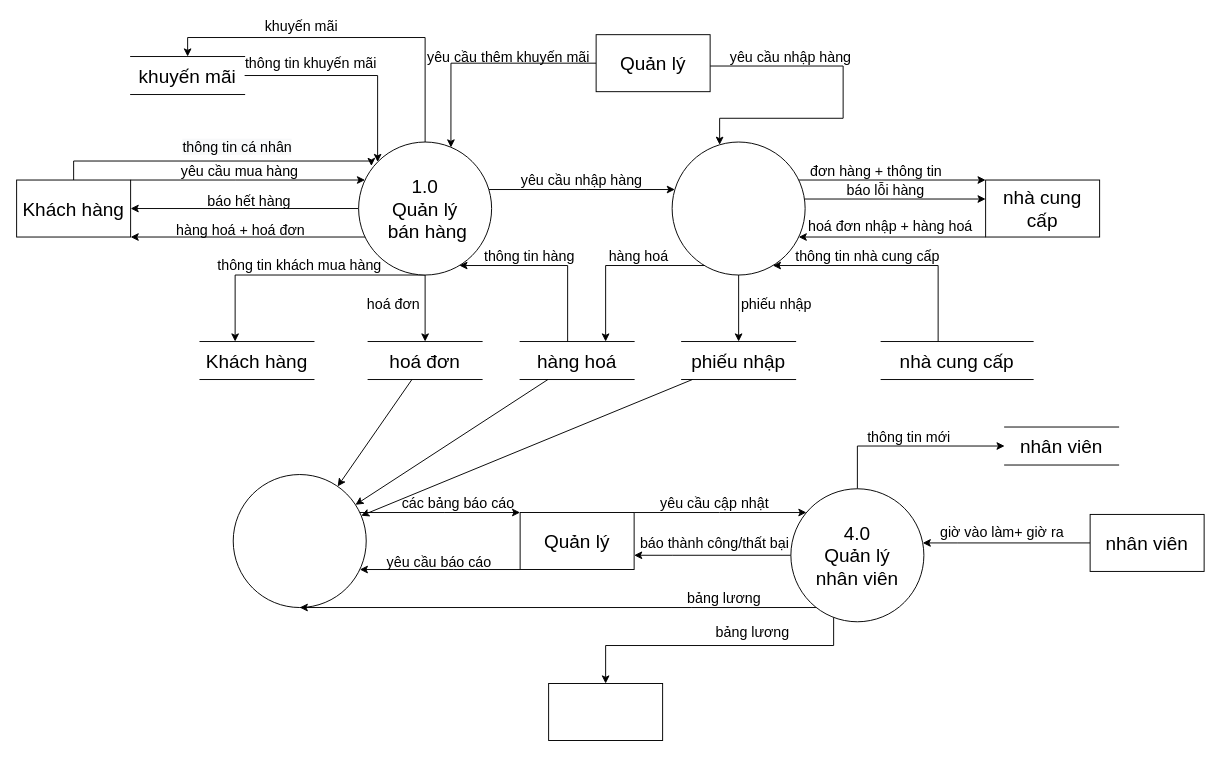
This 1221x757 diagram has some shape labels left out. Here are the shapes that lost their labels. From the top down, the centre of each, then its label:
point (738, 208): 2.0 Quản lý nhập hàng
point (299, 541): 3.0 Thống kê, báo cáo
point (605, 712): Kế toán
